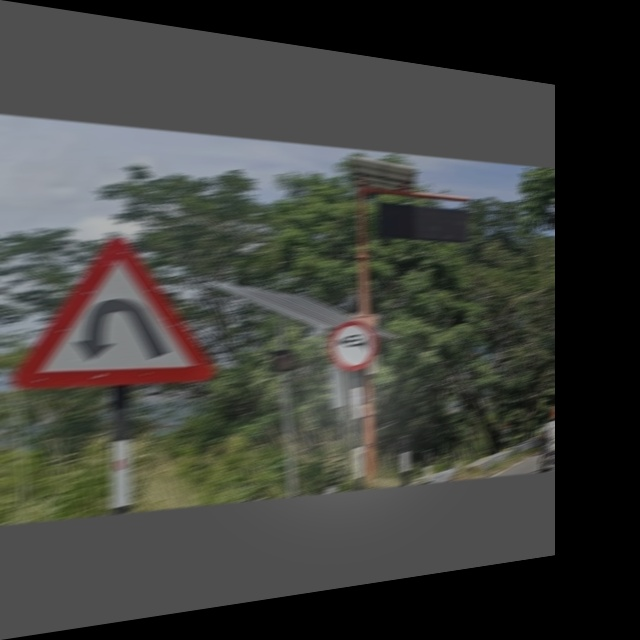Left_Hair_Pin_Bend: (15, 232, 219, 393)
